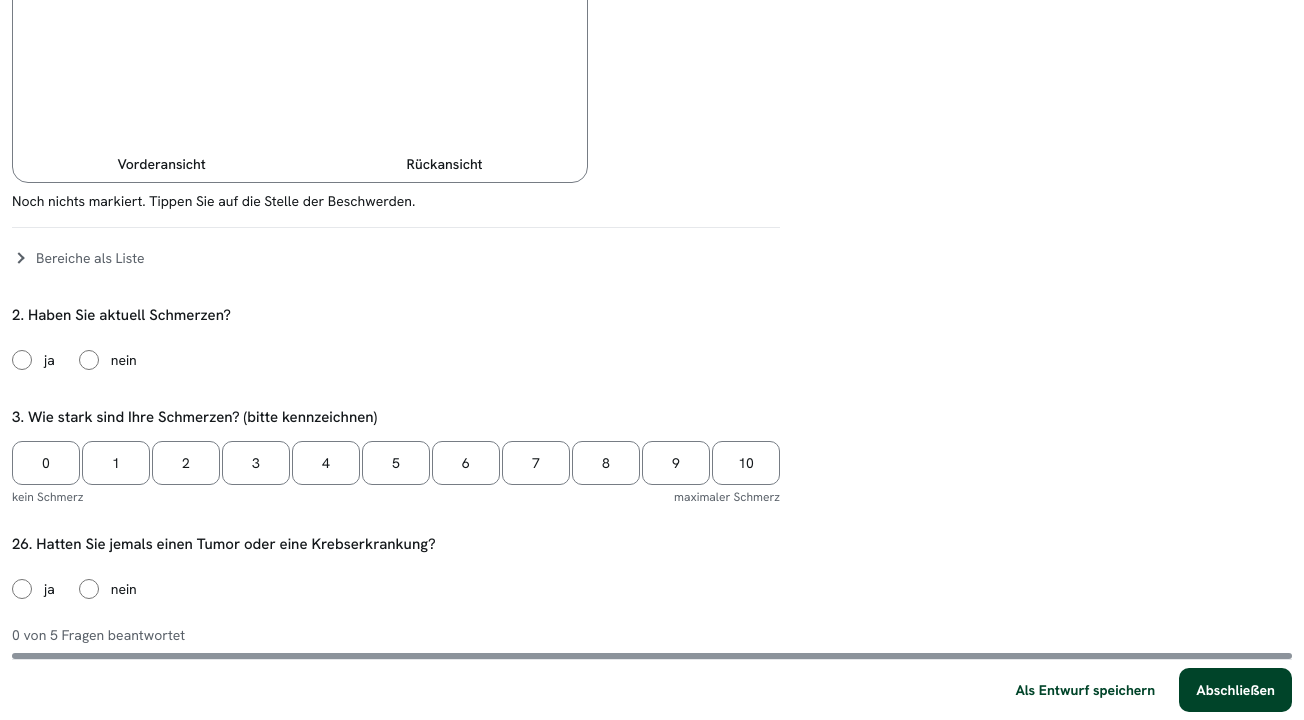
Test: Erhebung – Zustände und Schutz (UXR-009) › zeigt den Lauf nur an der gedrückten Schaltfläche (BEF-17)
The width and height of the screenshot is (1304, 720).
(page scrolled)
Click the radio button labelled "ja" below "2. Haben Sie aktuell Schmerzen?".
click(22, 360)  # box [12, 350, 32, 370]
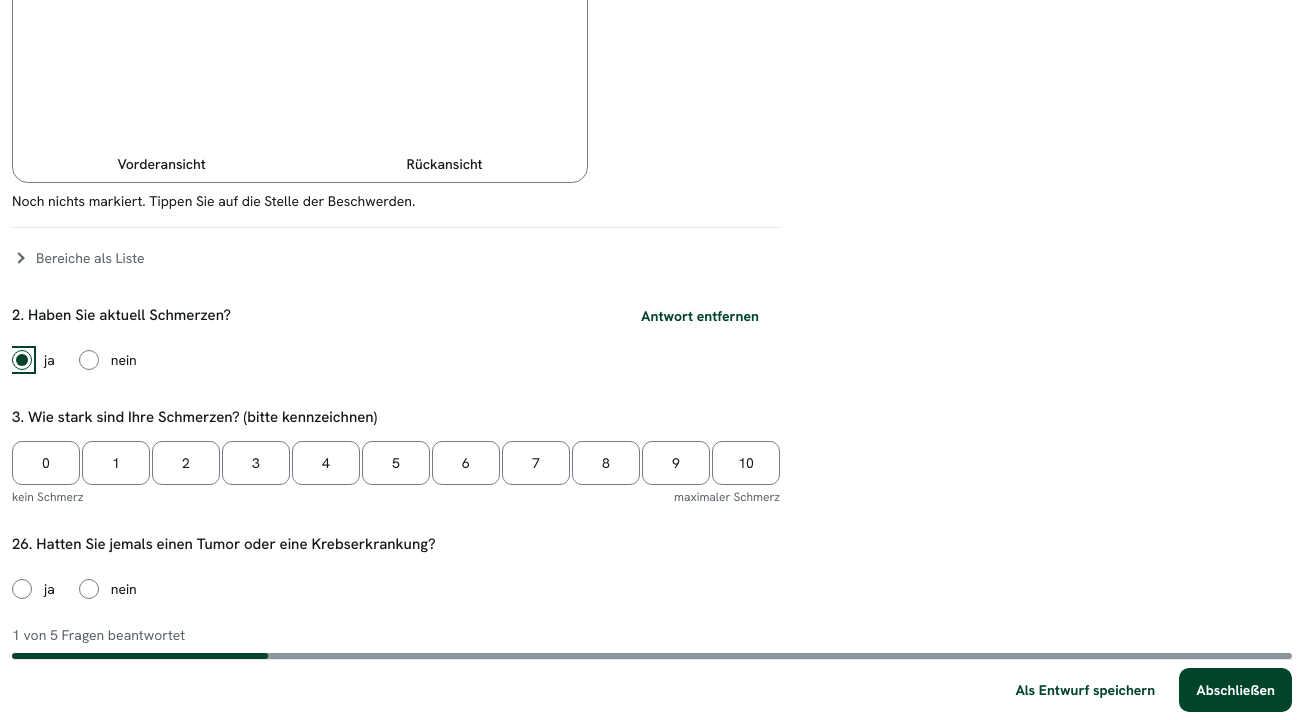
Click the button "Als Entwurf speichern".
click(1085, 690)  # box [999, 668, 1171, 712]
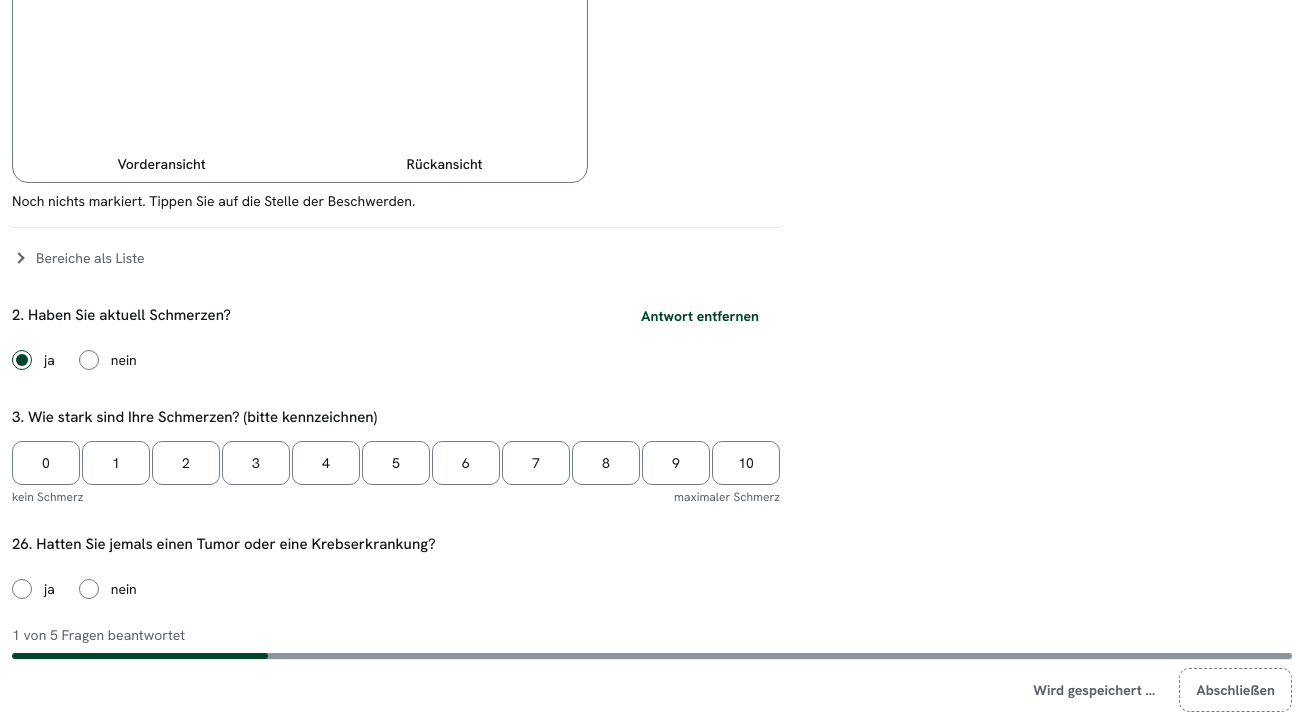
Expected: the button "Wird gespeichert …" is disabled, [1017, 668, 1171, 712]
Expected: the button "Abschließen" is disabled, [1179, 668, 1292, 712]
